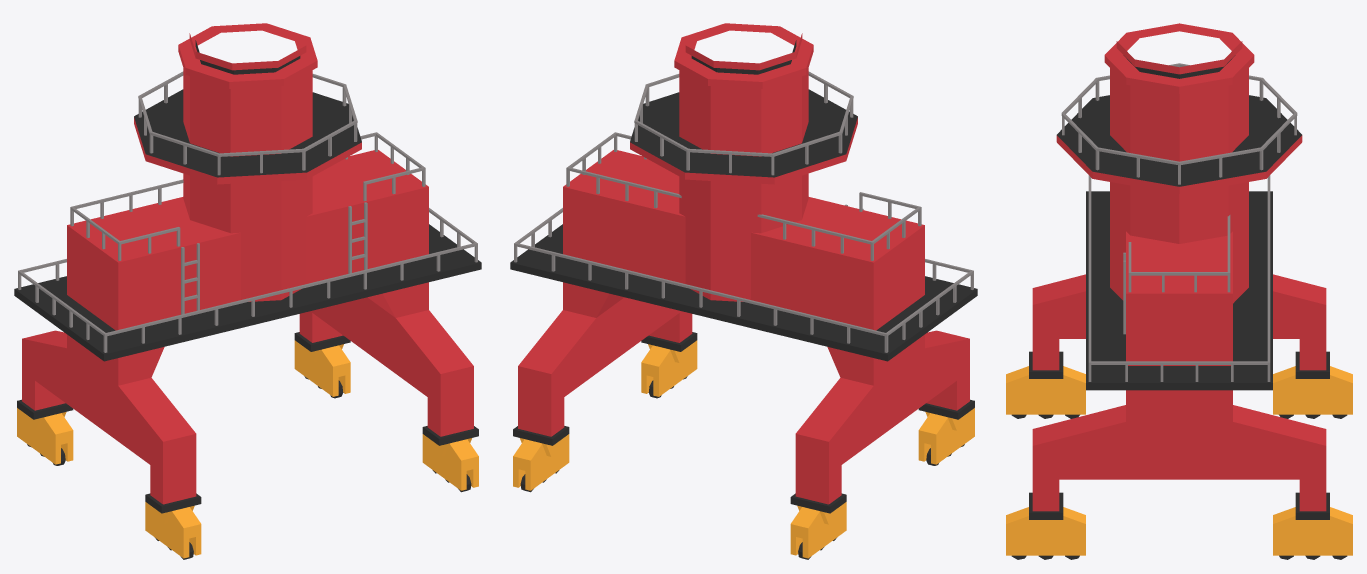
File: crane-docks-base.glb
The picture shows the model from 3 angles, left to right: view 1: azimuth 30°, elevation 25°; view 2: azimuth 150°, elevation 25°; view 3: azimuth 270°, elevation 25°; orthographic projection. The views are drawn at different scales.
Visible parts, largest first — view 1: crane-docks-base; view 2: crane-docks-base; view 3: crane-docks-base.
Boxes of the visible parts, x1=… form: crane-docks-base: x1=14, y1=23, x2=481, y2=559; crane-docks-base: x1=510, y1=23, x2=977, y2=559; crane-docks-base: x1=1006, y1=23, x2=1352, y2=559.
Size of the model in its own units: 17 by 18.5 by 13.
1 material, 1 textured.
